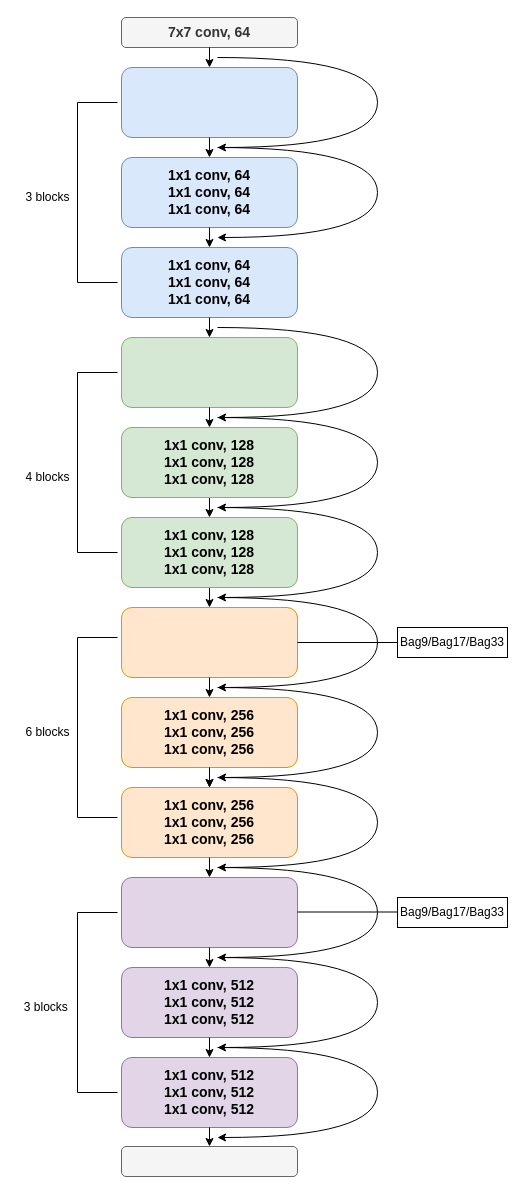
This 525x1194 diagram has some shape labels left out. Each missing label, with the centre of its shape:
1x1 conv, 128 3x3 conv, 128 1x1 conv, 128: (x=209, y=372)
1x1 conv, 256 1x1/3x3/3x3 conv, 256 1x1 conv, 256: (x=209, y=642)
1x1 conv, 512 1x1/1x1/3x3 conv, 512 1x1 conv, 512: (x=209, y=912)
1x1 conv, 64 3x3 conv, 64 1x1 conv, 64: (x=209, y=102)
FC, 40: (x=209, y=1161)
